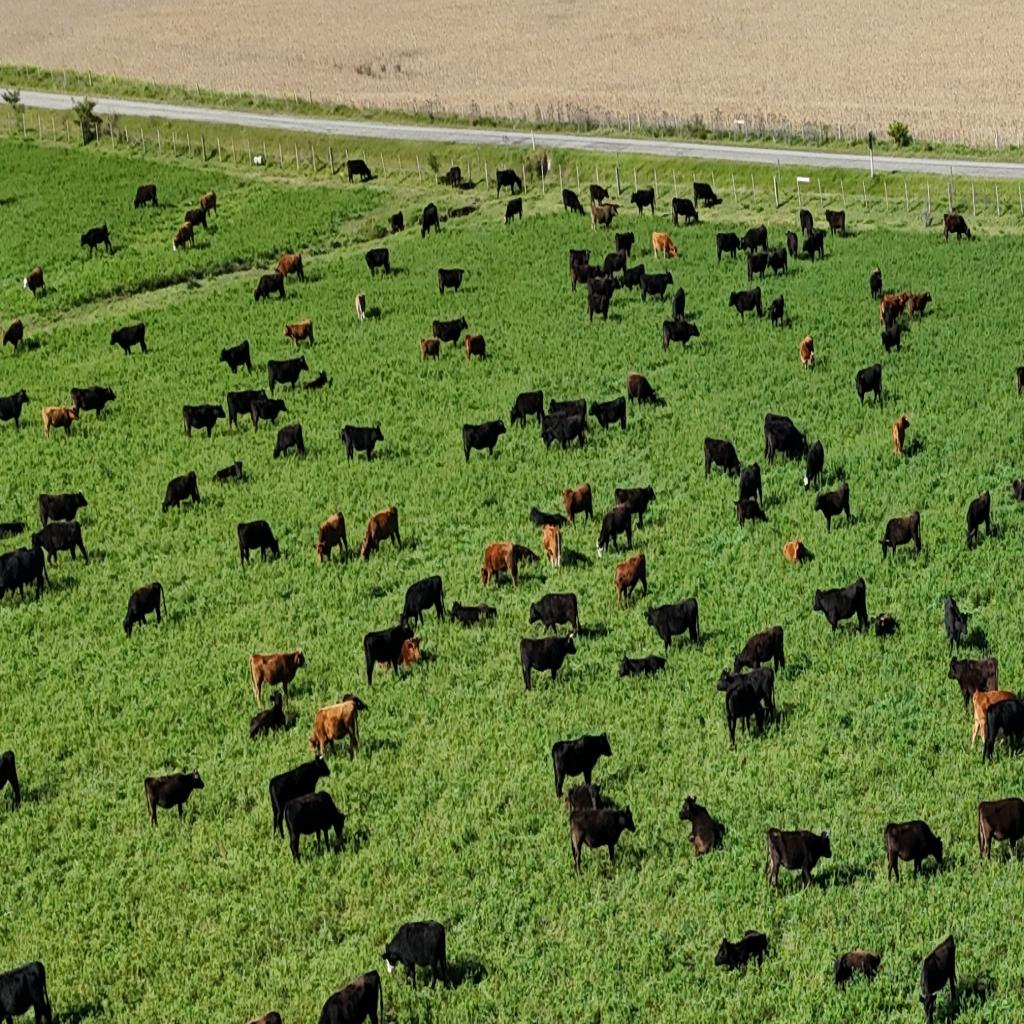cow: (567, 800, 636, 876), (381, 921, 451, 992), (764, 826, 832, 894), (282, 787, 346, 858), (259, 753, 332, 811), (882, 820, 944, 884), (550, 730, 610, 796), (143, 768, 205, 830), (310, 696, 368, 762), (917, 933, 957, 1024), (316, 969, 380, 1024), (249, 647, 307, 707), (362, 620, 414, 686), (970, 687, 1022, 753), (718, 664, 774, 725), (520, 634, 578, 692), (0, 960, 52, 1024), (812, 578, 868, 636), (977, 798, 1024, 866), (949, 656, 999, 714), (0, 547, 47, 608), (679, 793, 723, 857), (644, 597, 695, 652), (33, 518, 86, 569), (734, 626, 786, 675), (482, 542, 534, 591), (528, 591, 581, 639), (401, 574, 445, 628), (123, 581, 166, 636), (359, 506, 402, 561), (714, 930, 767, 974), (764, 413, 807, 466), (833, 948, 884, 990), (237, 519, 280, 566), (542, 407, 584, 455), (597, 503, 634, 557), (613, 485, 655, 532), (881, 512, 922, 560), (814, 481, 852, 532), (248, 691, 287, 740), (340, 421, 384, 464), (38, 491, 87, 529), (376, 632, 422, 672), (314, 510, 348, 564), (563, 783, 608, 823), (463, 419, 505, 461), (614, 554, 646, 608), (226, 389, 266, 432), (267, 355, 309, 395), (162, 472, 202, 514), (70, 384, 116, 420), (704, 436, 741, 480), (182, 403, 225, 440), (250, 394, 290, 433), (965, 490, 991, 550), (944, 594, 969, 656), (562, 482, 593, 527), (508, 390, 542, 431), (586, 276, 616, 322), (662, 317, 699, 354), (41, 404, 79, 440), (0, 390, 30, 434), (449, 600, 494, 629), (0, 748, 21, 810), (589, 397, 626, 432), (728, 287, 762, 324), (619, 654, 667, 680), (272, 424, 306, 460), (110, 322, 146, 356), (432, 316, 468, 349), (855, 363, 883, 405), (639, 271, 673, 305), (80, 224, 112, 260), (626, 372, 658, 408), (738, 462, 763, 507), (219, 340, 252, 374), (802, 441, 824, 490), (572, 262, 604, 295), (541, 523, 562, 571), (254, 272, 285, 304), (734, 497, 766, 528), (529, 505, 566, 531), (282, 320, 314, 350), (943, 212, 972, 244), (590, 202, 620, 232), (276, 252, 304, 284), (904, 291, 932, 323), (891, 414, 911, 458), (739, 226, 768, 256), (601, 250, 630, 280), (802, 227, 826, 263), (212, 458, 245, 484), (630, 187, 656, 219), (716, 231, 742, 263), (548, 398, 585, 420), (437, 266, 465, 295), (672, 197, 699, 227), (619, 265, 646, 295), (745, 250, 769, 283), (22, 265, 46, 298), (692, 181, 720, 209), (651, 231, 678, 260), (364, 247, 390, 277), (716, 668, 746, 694), (2, 318, 24, 353), (783, 539, 811, 566), (766, 247, 789, 279), (184, 206, 210, 234), (496, 169, 521, 198), (420, 202, 440, 238), (882, 301, 905, 331), (172, 222, 194, 253), (301, 368, 329, 392), (824, 208, 846, 238), (881, 327, 905, 354), (464, 333, 487, 361), (569, 248, 592, 276), (347, 159, 373, 183), (134, 183, 158, 209), (874, 612, 898, 638), (562, 188, 584, 216), (764, 429, 781, 465), (799, 333, 815, 370), (199, 190, 218, 220), (769, 295, 785, 329), (614, 231, 634, 257), (505, 196, 522, 226), (0, 518, 24, 539), (589, 183, 610, 206), (420, 336, 440, 360), (246, 1011, 282, 1024), (869, 268, 883, 300), (788, 244, 811, 263), (799, 208, 814, 237), (673, 286, 685, 322), (449, 204, 477, 218), (1008, 478, 1023, 503), (966, 524, 980, 550), (786, 230, 798, 260), (354, 292, 366, 322), (444, 166, 462, 186), (389, 211, 404, 234), (896, 292, 912, 312), (832, 225, 852, 239), (1016, 365, 1024, 395)
